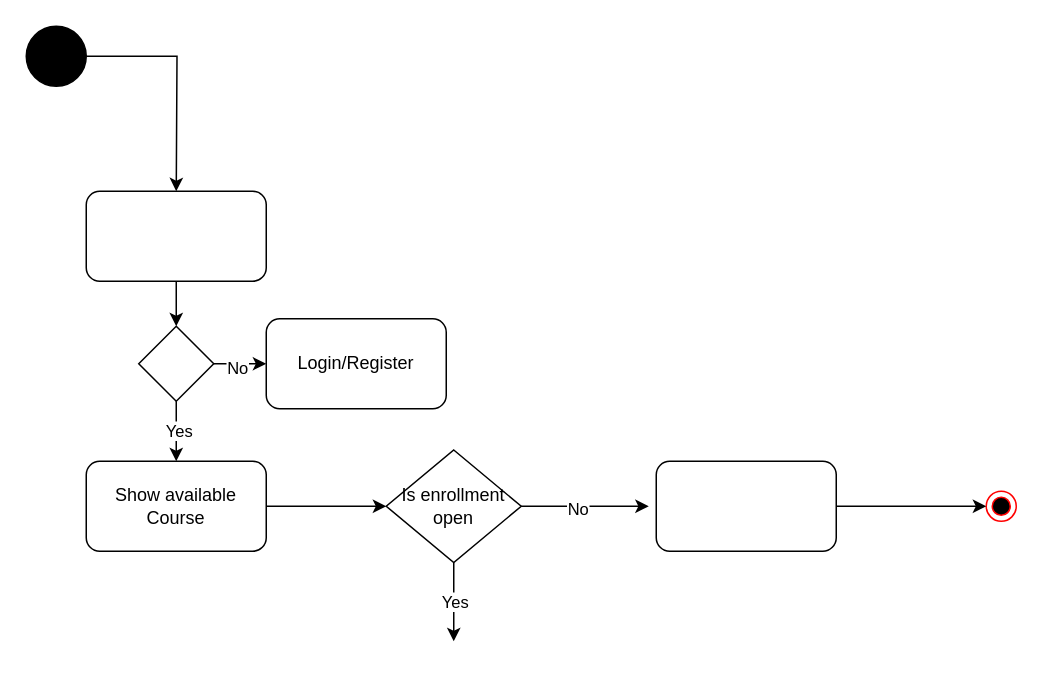
This 1043x680 diagram has some shape labels left out. Each missing label, with the centre of its shape:
Check if user is logged in: (175,235)
Show Message "Enrollment Closed": (745,505)
